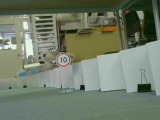speed_10: (55, 51, 72, 68)
